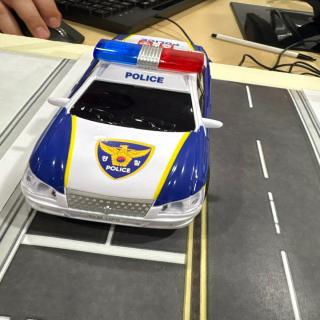Police_car: (21, 35, 222, 228)
